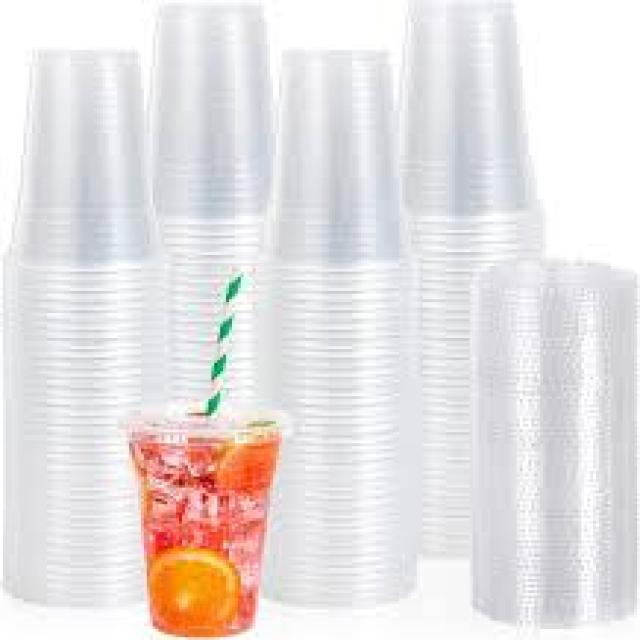bottle: (130, 414, 282, 636), (19, 50, 142, 266)
